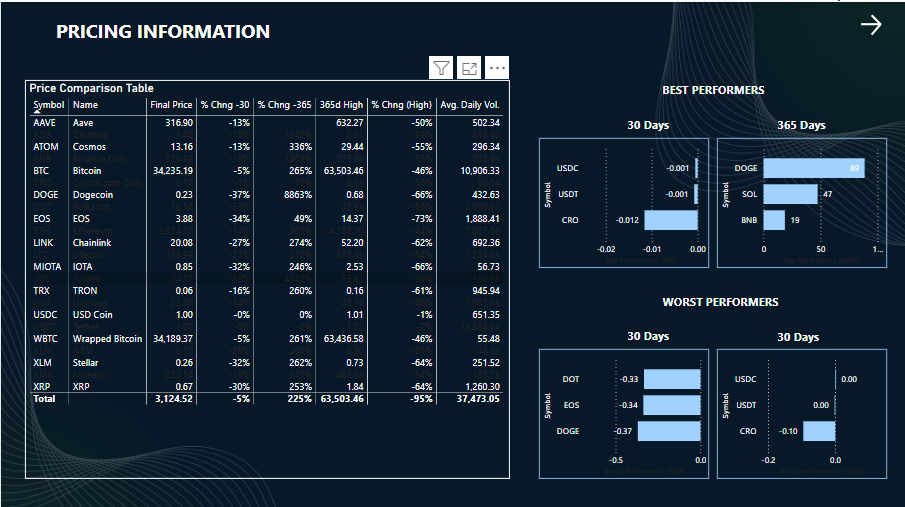

This screenshot's page, from the dashboard's own definition file:
{"tool":"powerbi","page":{"name":"Cyrptocurrency Pricing","canvas":[1280,720],"ordinal":2},"visuals":[{"type":"tableEx","title":"Price Comparison Table","fields":{"Values":["Crypto symbols.Symbol","Crypto symbols.Name","Key Measures.Close Price (Final)","Key Measures.% Change (-30 Days)","Key Measures.% Change (-365 Days)","Key Measures.High Price (-365 Days)","Key Measures.% Change (From 365 High)","Key Measures.Average Daily Volume"]},"box":[33.6,110.9,687.4,564.8],"z":0},{"type":"clusteredBarChart","fields":{"Category":["Crypto symbols.Symbol"],"Y":["Crypto prices.Top Performers (30D)"]},"box":[762.9,192.2,240.9,183.7],"z":1000},{"type":"clusteredBarChart","fields":{"Category":["Crypto symbols.Symbol"],"Y":["Key Measures.Top Performers (365D)"]},"box":[1014.8,192.2,240.9,183.7],"z":2000},{"type":"clusteredBarChart","fields":{"Category":["Crypto symbols.Symbol"],"Y":["Key Measures.Worst Performers (30D)"]},"box":[762.9,491.6,240.9,183.7],"z":3000},{"type":"clusteredBarChart","fields":{"Category":["Crypto symbols.Symbol"],"Y":["Key Measures.Worst Performers (365D)"]},"box":[1014.8,491.6,240.9,183.7],"z":4000},{"type":"textbox","box":[933.2,107.1,163,35.3],"z":5000},{"type":"textbox","box":[933.2,407.6,261.6,35.3],"z":6000},{"type":"textbox","box":[883.3,157,77.9,35.3],"z":7000},{"type":"textbox","box":[883.3,456.3,77.9,35.3],"z":8000},{"type":"textbox","box":[1096.3,157,98.6,35.3],"z":9000},{"type":"textbox","box":[1096.3,457.5,98.6,35.3],"z":10000},{"type":"textbox","box":[33.6,17.5,391.2,68.6],"z":11000},{"type":"actionButton","box":[11,7.3,40.2,66.9],"z":12000},{"type":"actionButton","box":[1212.9,13.1,42.3,39.4],"z":13000}]}

Visuals, with their boxes in screenshot pixels (x1, y1, x2, y2), scaled from the page's 1280x720 canvas onto the 905x507 screenshot:
"Price Comparison Table" tableEx: pyautogui.locateOnScreen(24, 78, 510, 476)
clusteredBarChart - Crypto symbols.Symbol x Crypto prices.Top Performers (30D): pyautogui.locateOnScreen(539, 135, 710, 265)
clusteredBarChart - Crypto symbols.Symbol x Key Measures.Top Performers (365D): pyautogui.locateOnScreen(717, 135, 888, 265)
clusteredBarChart - Crypto symbols.Symbol x Key Measures.Worst Performers (30D): pyautogui.locateOnScreen(539, 346, 710, 476)
clusteredBarChart - Crypto symbols.Symbol x Key Measures.Worst Performers (365D): pyautogui.locateOnScreen(717, 346, 888, 476)
textbox: pyautogui.locateOnScreen(660, 75, 775, 100)
textbox: pyautogui.locateOnScreen(660, 287, 845, 312)
textbox: pyautogui.locateOnScreen(625, 111, 680, 135)
textbox: pyautogui.locateOnScreen(625, 321, 680, 346)
textbox: pyautogui.locateOnScreen(775, 111, 845, 135)
textbox: pyautogui.locateOnScreen(775, 322, 845, 347)
textbox: pyautogui.locateOnScreen(24, 12, 300, 61)
actionButton: pyautogui.locateOnScreen(8, 5, 36, 52)
actionButton: pyautogui.locateOnScreen(858, 9, 887, 37)
